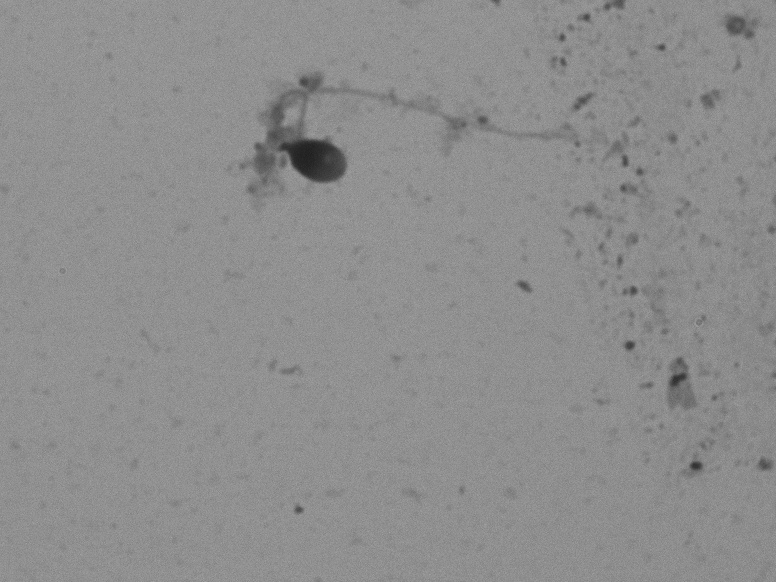Abnormal: (192, 62, 575, 229)
